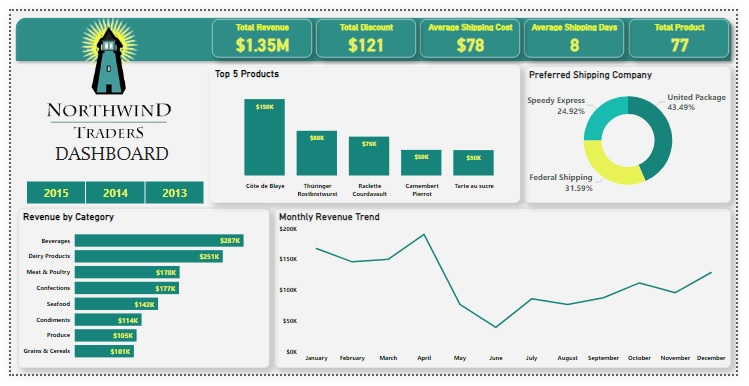

What the dashboard file says about the page in this screenshot:
{"tool":"powerbi","page":{"name":"Page 1","canvas":[1450,726],"ordinal":0},"visuals":[{"type":"shape","box":[0,3.3,1450,105],"z":0},{"type":"card","title":"Total Revenue","fields":{"Values":["order_details.Total Revenue"]},"box":[401.7,16.7,200,76.7],"z":1000},{"type":"card","title":"Total Product","fields":{"Values":["Count(products.Product ID)"]},"box":[1235,16.7,200,76.7],"z":2000},{"type":"card","title":"Average Shipping Days","fields":{"Values":["Avg(categories.Shipping Time (in Hours))"]},"box":[1026.7,16.7,200,76.7],"z":3000},{"type":"card","title":"Average Shipping Cost","fields":{"Values":["Avg(orders.Shipping Cost)"]},"box":[818.3,16.7,200,76.7],"z":4000},{"type":"card","title":"Total Discount","fields":{"Values":["Sum(order_details.Discount)"]},"box":[610,16.7,200,76.7],"z":5000},{"type":"donutChart","title":" Revenue by City","fields":{"Category":["shippers.Company Name"],"Y":["Sum(orders.Shipping Cost)"]},"box":[1026,108,414,276],"z":6000},{"type":"clusteredBarChart","title":"Revenue by Category","fields":{"Y":["order_details.Total Revenue"],"Category":["categories.Category Name"]},"box":[13.3,393.3,503.3,320],"z":7000},{"type":"clusteredColumnChart","title":"Top 5 Products","fields":{"Y":["order_details.Total Revenue"],"Category":["products.Product Name"]},"box":[398.3,108.3,620,275],"z":9000},{"type":"image","box":[53.3,5,278.3,265],"z":10000},{"type":"slicer","fields":{"Values":["orders.Order Date (bins)"]},"box":[5,333.3,403.3,58.3],"z":11000},{"type":"textbox","box":[30,255,355,60],"z":12000},{"type":"lineChart","title":"Monthly Revenue Trend","fields":{"Category":["orders.Order Date.Variation.Date Hierarchy.Month"],"Y":["order_details.Total Revenue"]},"box":[526,394,914,320],"z":12500}]}

Visuals, with their boxes in screenshot pixels (x1, y1, x2, y2), scaled from the page's 1450x726 canvas onto the 749x386 screenshot:
shape: 0:2:748:58
"Total Revenue" card: 207:9:311:50
"Total Product" card: 638:9:741:50
"Average Shipping Days" card: 530:9:634:50
"Average Shipping Cost" card: 423:9:526:50
"Total Discount" card: 315:9:418:50
" Revenue by City" donutChart: 530:57:744:204
"Revenue by Category" clusteredBarChart: 7:209:267:379
"Top 5 Products" clusteredColumnChart: 206:58:526:204
image: 28:3:171:144
slicer - orders.Order Date (bins): 3:177:211:208
textbox: 15:136:199:167
"Monthly Revenue Trend" lineChart: 272:209:744:380
